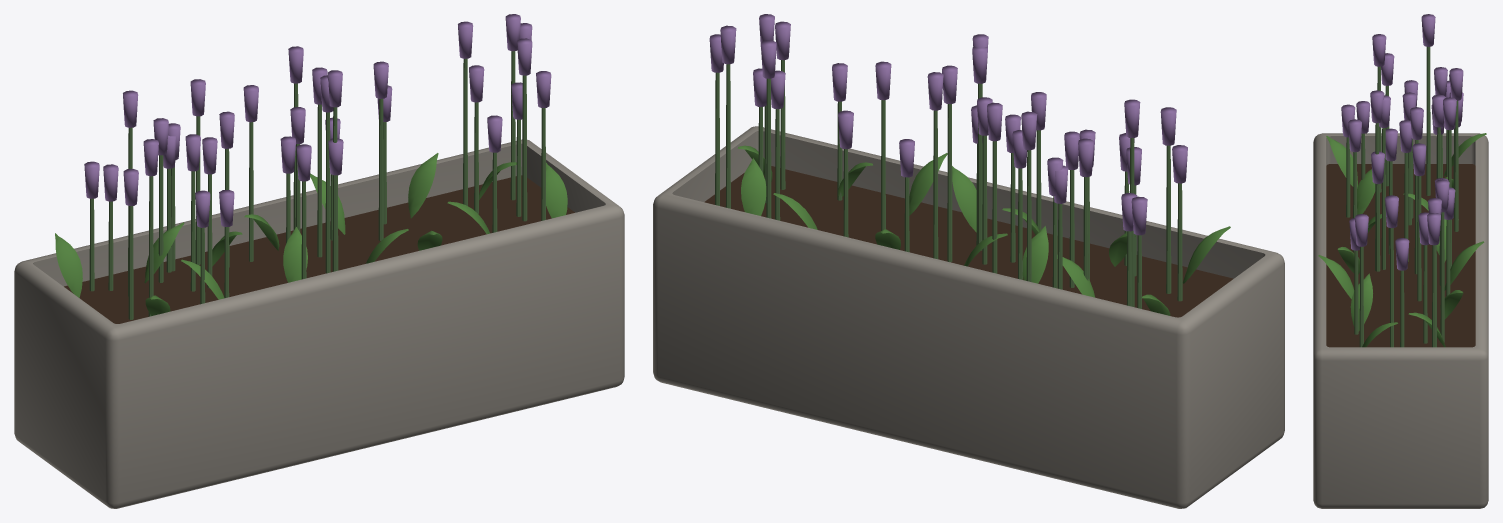
Rendered from floreira.glb.
The picture shows the model from 3 angles, left to right: view 1: azimuth 30°, elevation 25°; view 2: azimuth 150°, elevation 25°; view 3: azimuth 270°, elevation 25°; orthographic projection. The views are drawn at different scales.
Visible parts, largest first — view 1: p; view 2: p; view 3: p.
Part boxes in pixels (box(x1,y1,x2,y2)): p: box(14, 14, 624, 508); p: box(653, 14, 1284, 508); p: box(1313, 14, 1488, 508).
Bounding box in the file's own units: 1.2 × 0.7783 × 0.4.
